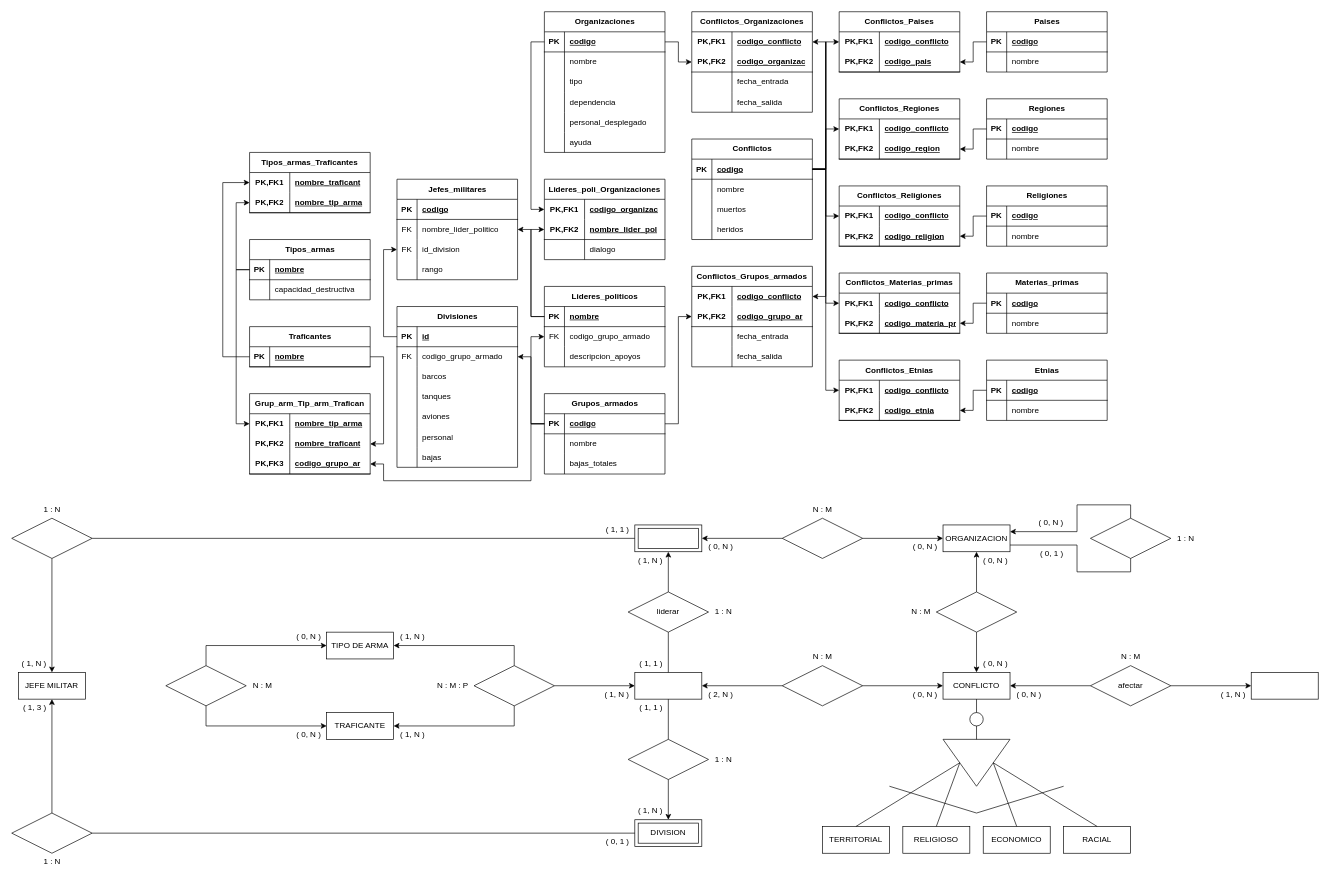
The diagram is 1330 pixels wide and 882 high, and some of its shapes have lost their labels. Each missing label, with the centre of its shape:
"depende de" belongs at [1130,538].
"dialogar" belongs at [822,538].
"dirigir" belongs at [51,832].
"dispone" belongs at [668,759].
"GRUPO ARMADO" belongs at [668,685].
"intervenir" belongs at [822,685].
"LIDER POLITICO" belongs at [668,538].
"mediar" belongs at [976,611].
"obedecer" belongs at [51,538].
"PAIS" belongs at [1284,685].
"puede suministrar" belongs at [205,685].
"suministra" belongs at [513,685].
